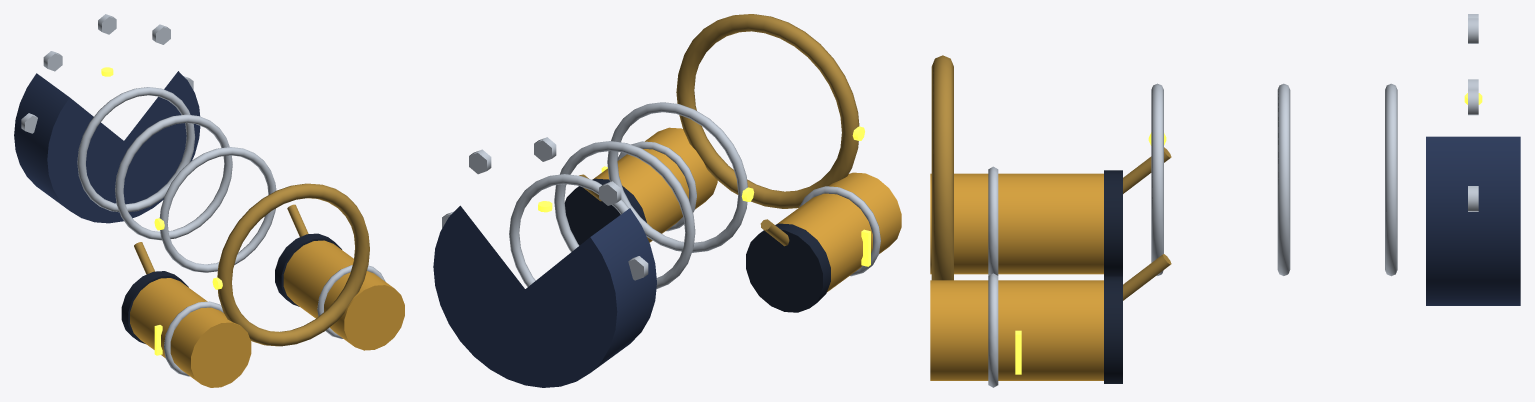
Rendered from tower_nova_damage_s5.glb.
3 renders of one model, left to right at view 1: azimuth 30°, elevation 25°; view 2: azimuth 150°, elevation 25°; view 3: azimuth 270°, elevation 25°, orthographic. The views are drawn at different scales.
Visible parts, largest first — view 1: nova_brake_shroud, nova_napalm_can_r, nova_napalm_can_l, nova_pressure_ring, nova_tube_band1.02, nova_tube_band1.36, nova_tube_band0.62, nova_brake_shroud_bolts, nova_napalm_cap_l, nova_napalm_cap_r, nova_napalm_strap_r, nova_napalm_strap_l; view 2: nova_brake_shroud, nova_pressure_ring, nova_napalm_can_r, nova_napalm_cap_r, nova_napalm_can_l, nova_tube_band0.62, nova_tube_band1.02, nova_napalm_cap_l, nova_tube_band1.36, nova_brake_shroud_bolts, nova_napalm_strap_r, nova_napalm_strap_l; view 3: nova_napalm_can_l, nova_brake_shroud, nova_napalm_can_r, nova_pressure_ring, nova_tube_band1.02, nova_tube_band1.36, nova_tube_band0.62, nova_napalm_cap_l, nova_napalm_cap_r, nova_napalm_strap_l, nova_napalm_strap_r, nova_brake_shroud_bolts (+2 smaller).
Part boxes in pixels (x1=…): nova_brake_shroud: x1=14, y1=71, x2=200, y2=223; nova_napalm_can_r: x1=130, y1=278, x2=251, y2=387; nova_napalm_can_l: x1=283, y1=240, x2=404, y2=350; nova_pressure_ring: x1=217, y1=183, x2=369, y2=346; nova_tube_band1.02: x1=115, y1=114, x2=232, y2=240; nova_tube_band1.36: x1=77, y1=87, x2=194, y2=212; nova_tube_band0.62: x1=159, y1=147, x2=276, y2=272; nova_brake_shroud_bolts: x1=21, y1=14, x2=193, y2=133; nova_napalm_cap_l: x1=275, y1=233, x2=341, y2=306; nova_napalm_cap_r: x1=121, y1=271, x2=188, y2=343; nova_napalm_strap_r: x1=164, y1=301, x2=223, y2=376; nova_napalm_strap_l: x1=317, y1=265, x2=385, y2=338; nova_brake_shroud: x1=433, y1=205, x2=656, y2=387; nova_pressure_ring: x1=676, y1=14, x2=859, y2=208; nova_napalm_can_r: x1=777, y1=172, x2=901, y2=291; nova_napalm_cap_r: x1=746, y1=223, x2=830, y2=312; nova_napalm_can_l: x1=593, y1=127, x2=717, y2=242; nova_tube_band0.62: x1=607, y1=102, x2=747, y2=252; nova_tube_band1.02: x1=554, y1=141, x2=695, y2=289; nova_napalm_cap_l: x1=565, y1=178, x2=646, y2=245; nova_tube_band1.36: x1=509, y1=174, x2=628, y2=286; nova_brake_shroud_bolts: x1=442, y1=137, x2=648, y2=280; nova_napalm_strap_r: x1=799, y1=186, x2=880, y2=276; nova_napalm_strap_l: x1=617, y1=141, x2=696, y2=231; nova_napalm_can_l: x1=930, y1=280, x2=1103, y2=380; nova_brake_shroud: x1=1426, y1=136, x2=1520, y2=305; nova_napalm_can_r: x1=930, y1=173, x2=1103, y2=274; nova_pressure_ring: x1=931, y1=55, x2=953, y2=280; nova_tube_band1.02: x1=1277, y1=83, x2=1290, y2=275; nova_tube_band1.36: x1=1385, y1=83, x2=1397, y2=276; nova_tube_band0.62: x1=1151, y1=83, x2=1163, y2=275; nova_napalm_cap_l: x1=1104, y1=277, x2=1122, y2=383; nova_napalm_cap_r: x1=1104, y1=170, x2=1122, y2=276; nova_napalm_strap_l: x1=988, y1=273, x2=998, y2=387; nova_napalm_strap_r: x1=988, y1=166, x2=998, y2=275; nova_brake_shroud_bolts: x1=1468, y1=14, x2=1478, y2=211.
Bounding box in the file's own units: 1.17 × 1.09 × 1.87.
